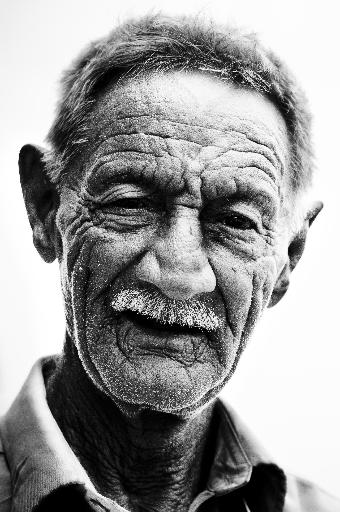left_eye: (203, 210, 262, 237)
left_lip_corner: (192, 325, 216, 343)
right_eye: (98, 193, 156, 220)
right_lip_corner: (114, 304, 140, 330)
